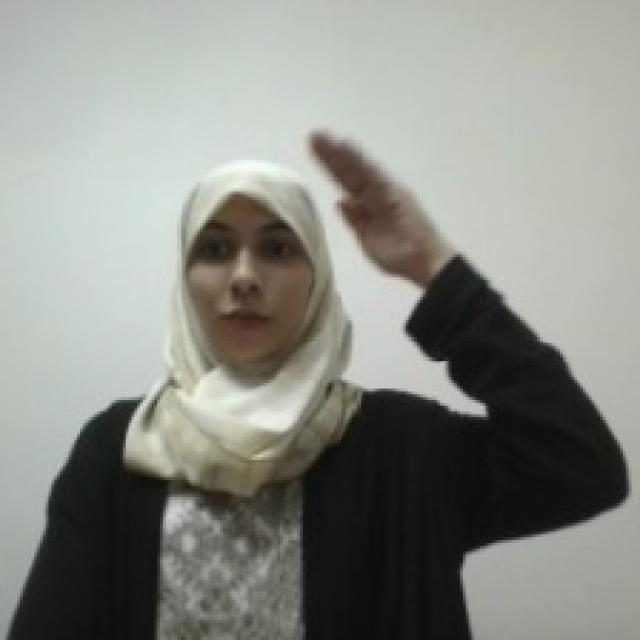Thanks: (304, 123, 440, 277)
